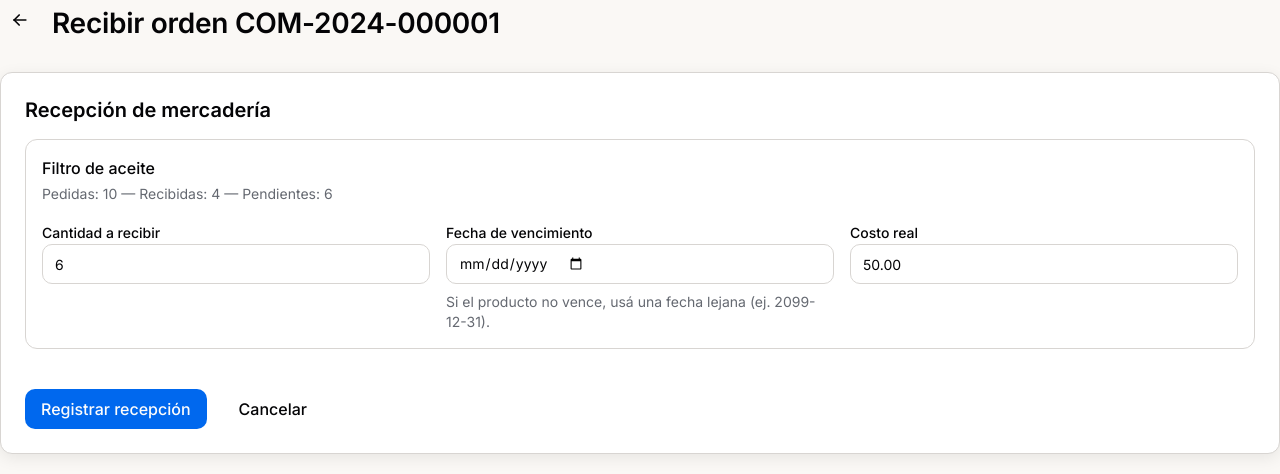
Test case: PurchaseOrderReceivePage › requires an expiration date per line
Check: the number field labelled "Cantidad a recibir" is shown, box x1=42 y1=244 x2=430 y2=284
Click the button "Registrar recepción": [116, 409] box x1=25 y1=389 x2=207 y2=429
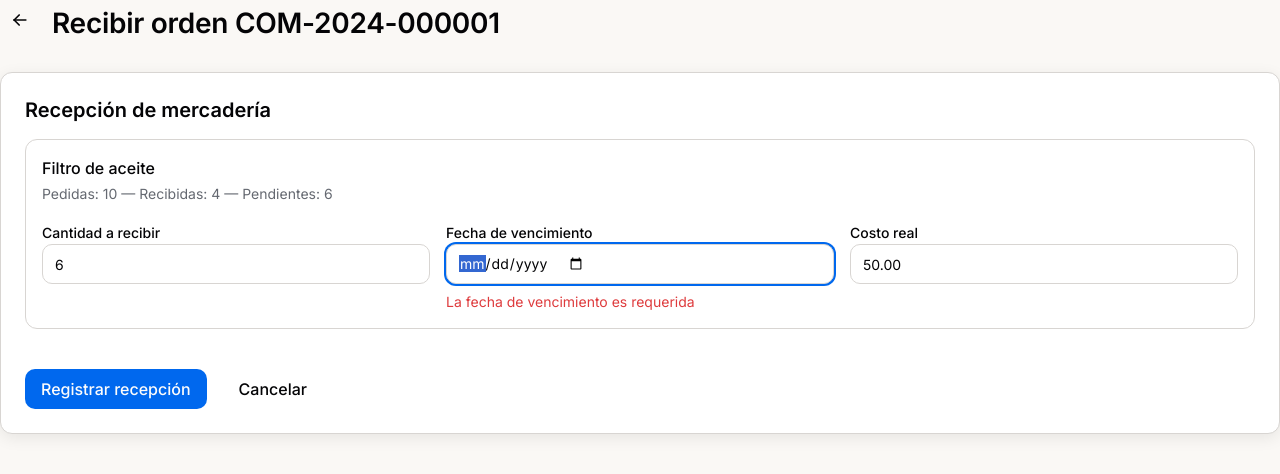
Check: the text "La fecha de vencimiento es requerida" is shown, box x1=446 y1=293 x2=695 y2=310
